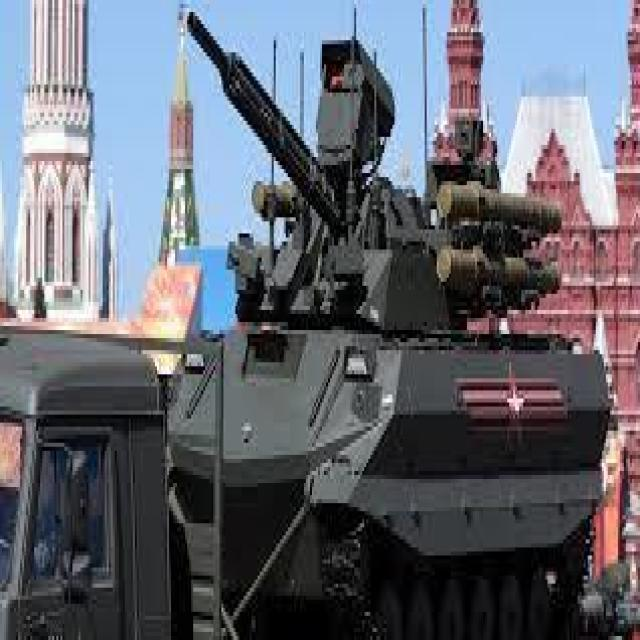Tanks: (145, 48, 578, 628)
